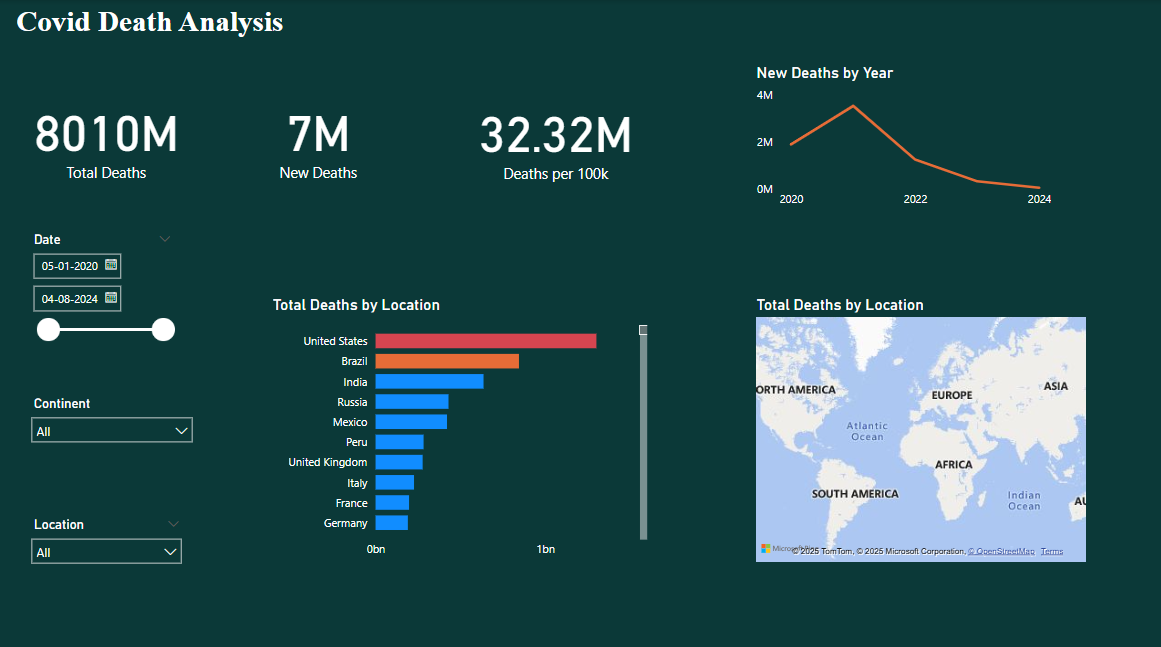

Layout of this report page (visuals, bound fields, positions):
{"tool":"powerbi","page":{"name":"Page 1","canvas":[1280,720],"ordinal":0},"visuals":[{"type":"card","fields":{"Values":["Sum(cleaned_covid_deaths.total_deaths)"]},"box":[27.4,68.6,185.2,163.3],"z":0},{"type":"textbox","box":[0,0,572.2,68.6],"z":1000},{"type":"card","fields":{"Values":["Sum(cleaned_covid_deaths.new_deaths)"]},"box":[248.4,68.6,208.6,163.3],"z":2000},{"type":"card","fields":{"Values":["Sum(cleaned_covid_deaths.deaths_per_100k)"]},"box":[509.1,70,208.6,163.3],"z":3000},{"type":"lineChart","title":"New Deaths  by Year","fields":{"Category":["cleaned_covid_deaths.date.Variation.Date Hierarchy.Year","cleaned_covid_deaths.date.Variation.Date Hierarchy.Quarter","cleaned_covid_deaths.date.Variation.Date Hierarchy.Month","cleaned_covid_deaths.date.Variation.Date Hierarchy.Day"],"Y":["Sum(cleaned_covid_deaths.new_deaths)"]},"box":[828.8,70,333.4,167.4],"z":4000},{"type":"filledMap","title":"Total Deaths by Location","fields":{"Series":["cleaned_covid_deaths.location"]},"box":[828.8,323.8,371.9,297.8],"z":5000},{"type":"barChart","title":"Total Deaths by Location","fields":{"Category":["cleaned_covid_deaths.location"],"Y":["Sum(cleaned_covid_deaths.total_deaths)"]},"box":[297.8,323.8,421.3,297.8],"z":6000},{"type":"slicer","fields":{"Values":["cleaned_covid_deaths.continent"]},"box":[27.4,429.5,197.6,113.9],"z":7000},{"type":"slicer","fields":{"Values":["cleaned_covid_deaths.date"]},"box":[27.4,249.7,175.6,179.8],"z":8000},{"type":"slicer","fields":{"Values":["cleaned_covid_deaths.location"]},"box":[27.4,562.6,185.2,118],"z":9000}]}

Visuals, with their boxes in screenshot pixels (x1, y1, x2, y2), scaled from the page's 1280x720 canvas onto the 1161x647 screenshot:
card - Sum(cleaned_covid_deaths.total_deaths): [25,62,193,208]
textbox: [0,0,519,62]
card - Sum(cleaned_covid_deaths.new_deaths): [225,62,415,208]
card - Sum(cleaned_covid_deaths.deaths_per_100k): [462,63,651,210]
"New Deaths  by Year" lineChart: [752,63,1054,213]
"Total Deaths by Location" filledMap: [752,291,1089,559]
"Total Deaths by Location" barChart: [270,291,652,559]
slicer - cleaned_covid_deaths.continent: [25,386,204,488]
slicer - cleaned_covid_deaths.date: [25,224,184,386]
slicer - cleaned_covid_deaths.location: [25,506,193,612]
